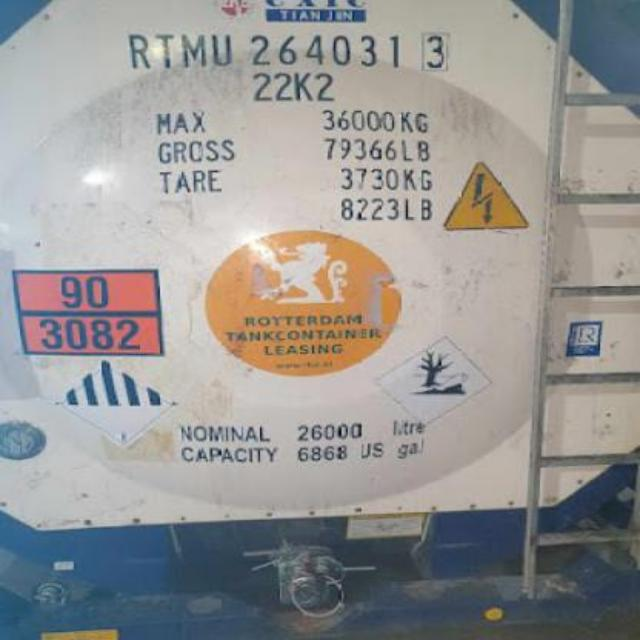0: (328, 24, 352, 68)
1: (384, 22, 404, 70)
2: (250, 25, 270, 69)
3: (420, 26, 446, 70), (357, 26, 378, 70)
4: (302, 23, 326, 67)
6: (276, 26, 298, 66)
M: (182, 27, 206, 71)
R: (126, 30, 150, 72)
T: (152, 25, 176, 71)
U: (210, 31, 236, 69)
